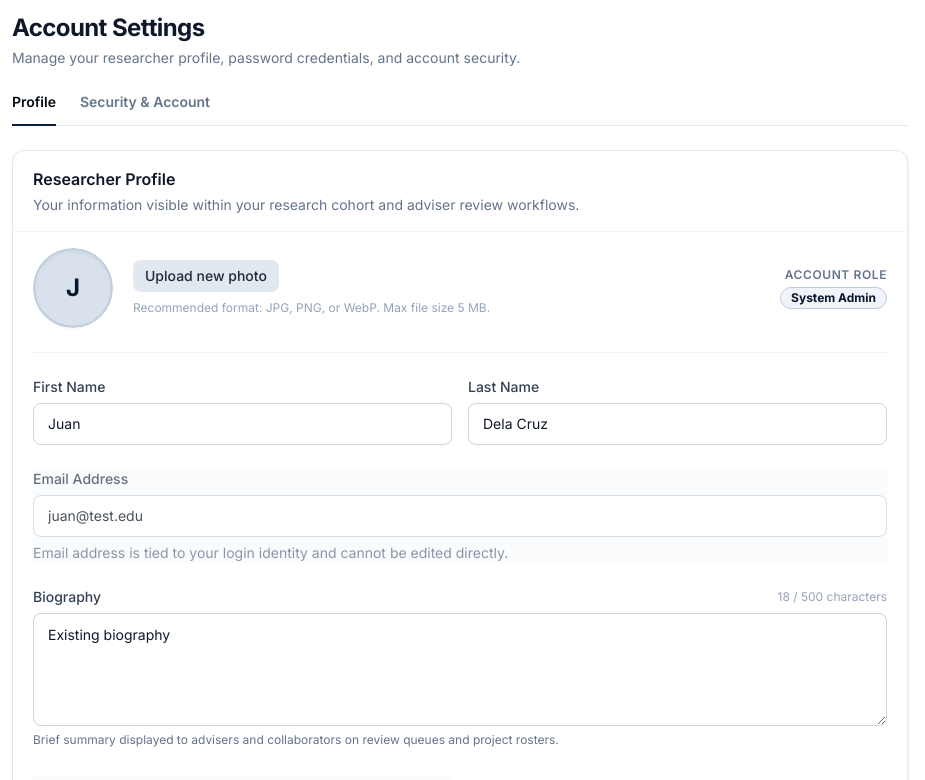
Test: SettingsPage Component Tests (§2 & §7 Spec) › 8. Deactivate Account card is hidden for System Administrators
Switch to Security tab
Click the tab "Security & Account".
click(145, 109)  # box [80,92,210,126]
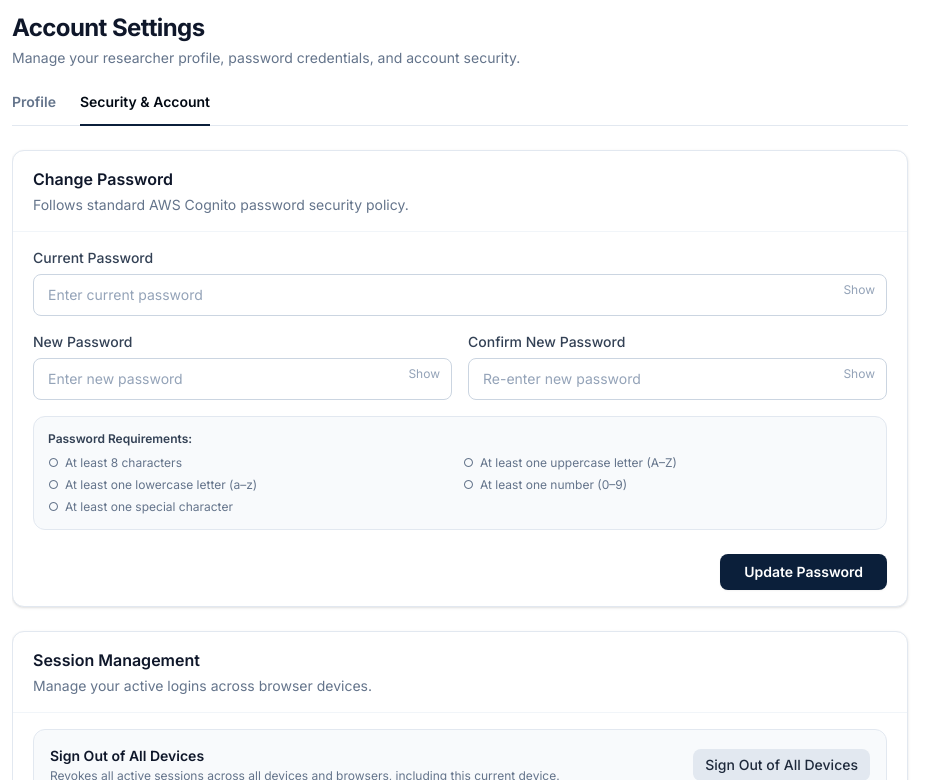
Expected: the button "Sign Out of All Devices" is shown, [693,749,870,779]
